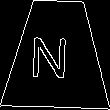N_N: (36, 29, 77, 80)
